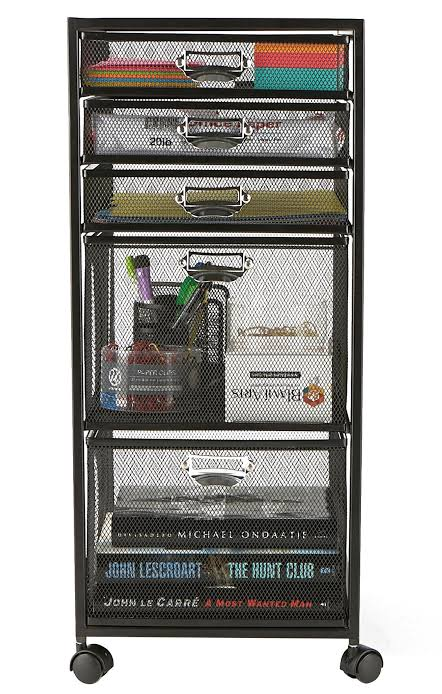Carts: (65, 13, 383, 685)
